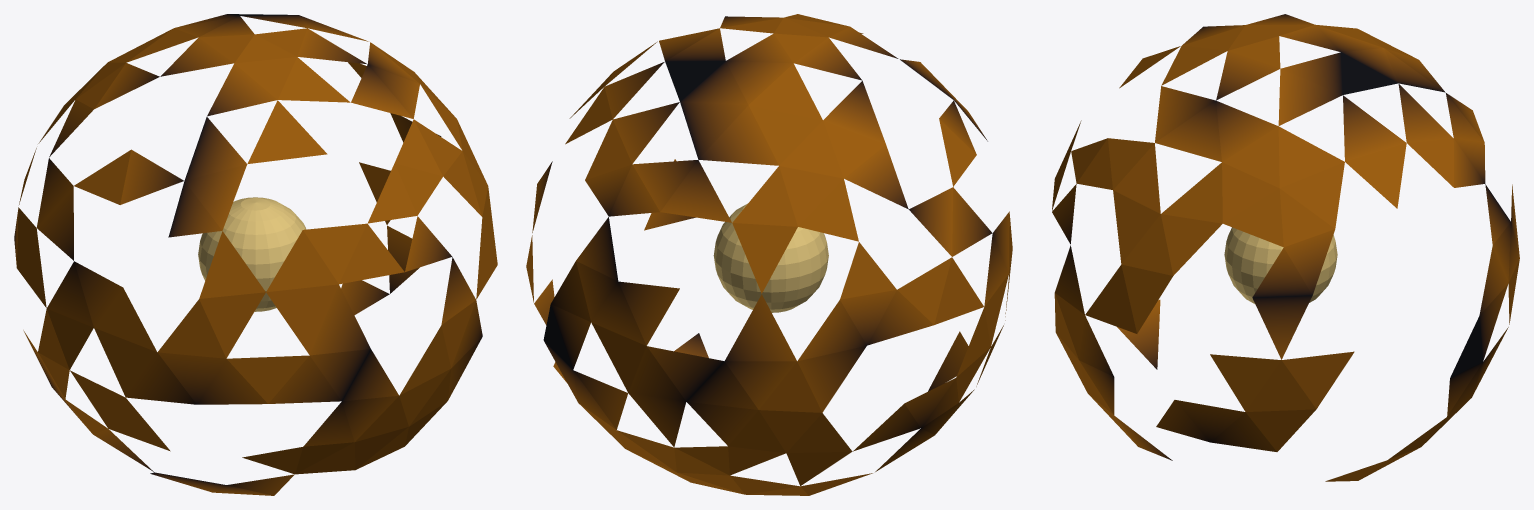
Rendered from dyson.glb.
The picture shows the model from 3 angles, left to right: view 1: azimuth 30°, elevation 25°; view 2: azimuth 150°, elevation 25°; view 3: azimuth 270°, elevation 25°; orthographic projection.
Visible parts, largest first — view 1: dyson; view 2: dyson; view 3: dyson.
Part boxes in pixels (<box>): dyson: <box>14,14,497,495</box>; dyson: <box>526,14,1012,495</box>; dyson: <box>1052,14,1519,481</box>.
Size of the model in its own units: 1.98 by 1.99 by 1.98.
